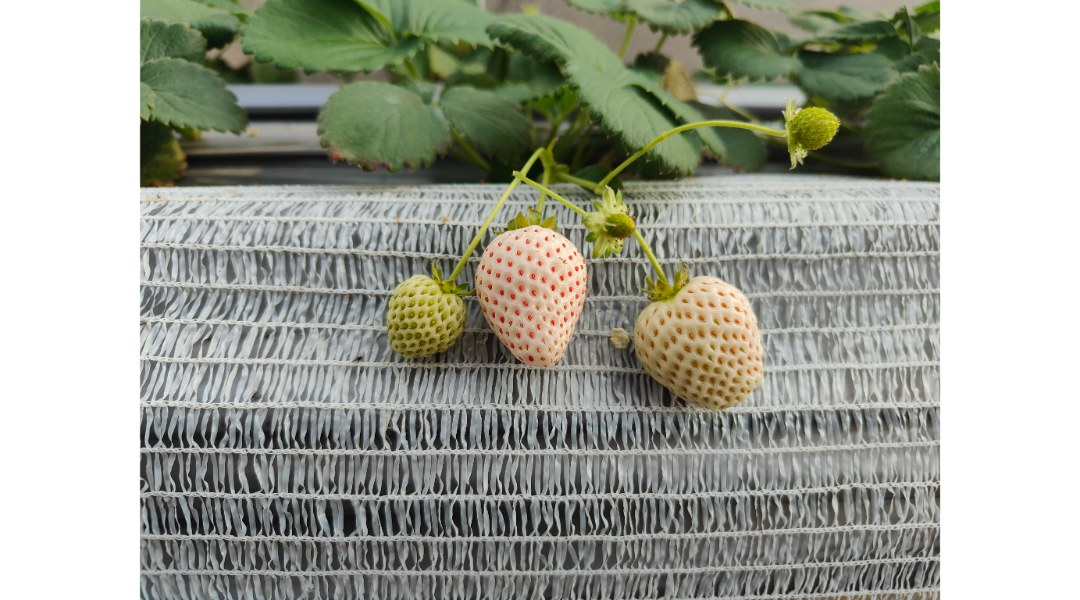berry: (637, 271, 764, 416), (480, 219, 594, 374), (379, 267, 468, 372), (778, 93, 845, 177), (599, 196, 637, 257)
strain: (602, 122, 786, 183), (450, 185, 517, 277), (510, 166, 590, 224), (524, 147, 537, 177)
